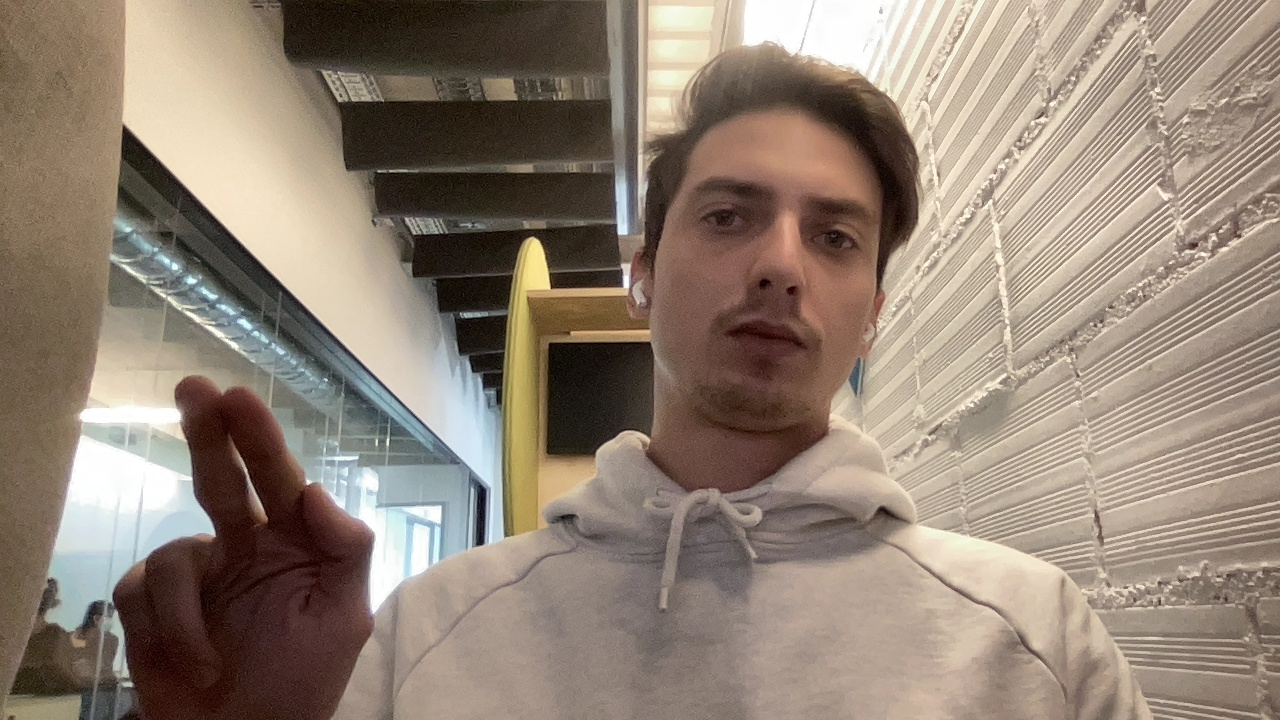no: (86, 360, 398, 712)
